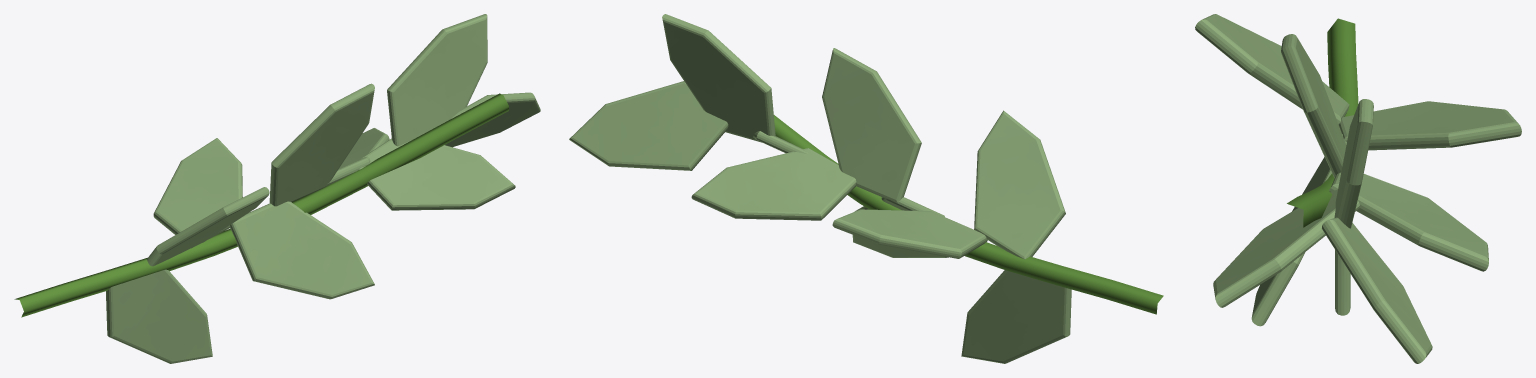
File: sage.glb
The picture shows the model from 3 angles, left to right: view 1: azimuth 30°, elevation 25°; view 2: azimuth 150°, elevation 25°; view 3: azimuth 270°, elevation 25°; orthographic projection. The views are drawn at different scales.
Parts seen in each view (by area): view 1: sage; view 2: sage; view 3: sage.
Boxes of the visible parts, x1,y1,x2,y2 form: sage: [14, 14, 540, 363]; sage: [569, 14, 1163, 363]; sage: [1195, 14, 1521, 363].
Size of the model in its own units: 0.183 by 0.0852 by 0.0632.
Materials: 2 (1 with a texture image).
